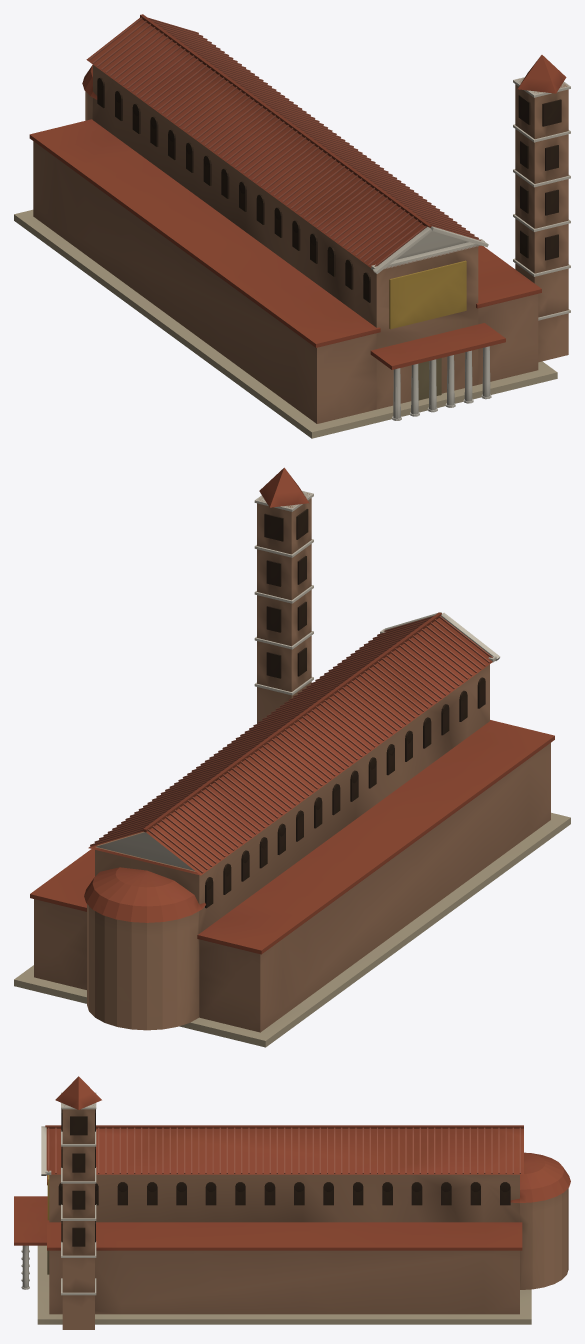
Rendered from santa-maria-maggiore.glb.
3 views of the same model, one above another, from view 1: azimuth 30°, elevation 25°; view 2: azimuth 150°, elevation 25°; view 3: azimuth 270°, elevation 25° (orthographic). The views are drawn at different scales.
Parts seen in each view (by area): view 1: p2_campanile, p1_porch, p0_base; view 2: p2_campanile, p1_porch, p0_base; view 3: p1_porch, p2_campanile, p0_base.
Boxes of the visible parts, box(x1,y1,x2,y2) form: p2_campanile: box(29, 14, 570, 369); p1_porch: box(33, 65, 538, 423); p0_base: box(14, 209, 557, 438); p2_campanile: box(30, 467, 554, 954); p1_porch: box(34, 664, 550, 1032); p0_base: box(14, 812, 570, 1047); p1_porch: box(21, 1174, 568, 1314); p2_campanile: box(14, 1076, 570, 1329); p0_base: box(37, 1245, 531, 1324).
Bounding box in the file's own units: 45.5 × 47.3 × 94.68.
